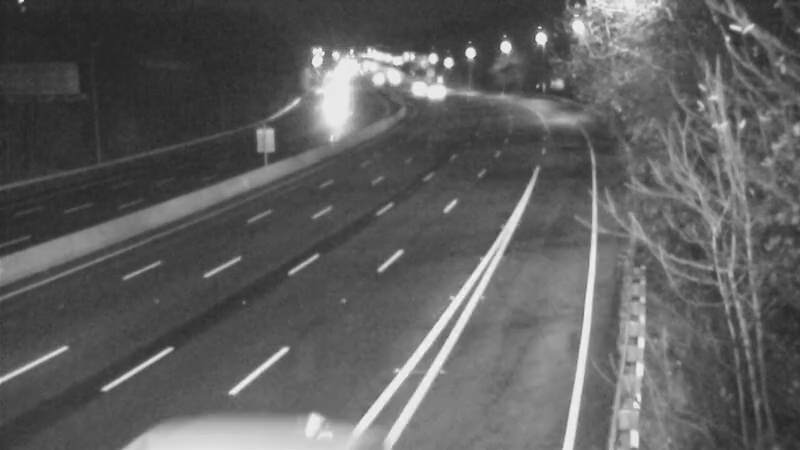vehicle: (363, 56, 413, 106), (353, 55, 403, 105), (389, 62, 439, 112), (408, 70, 458, 120), (307, 73, 357, 123)
